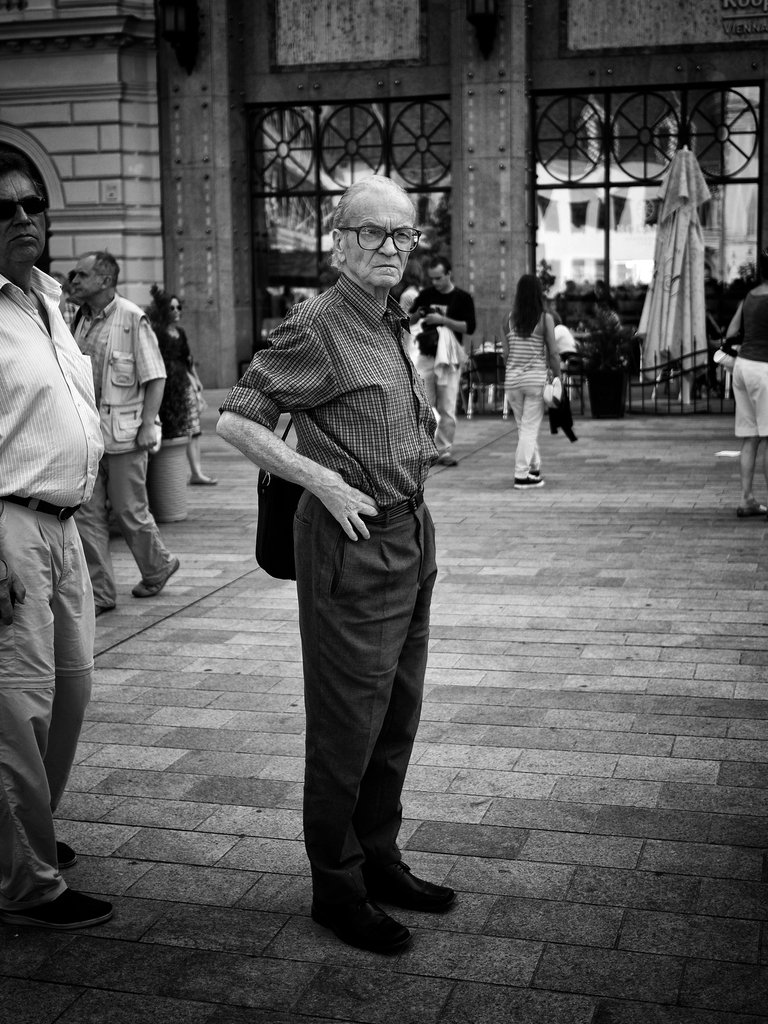Footwear: (322, 890, 414, 954), (10, 890, 119, 939), (378, 874, 456, 916)
